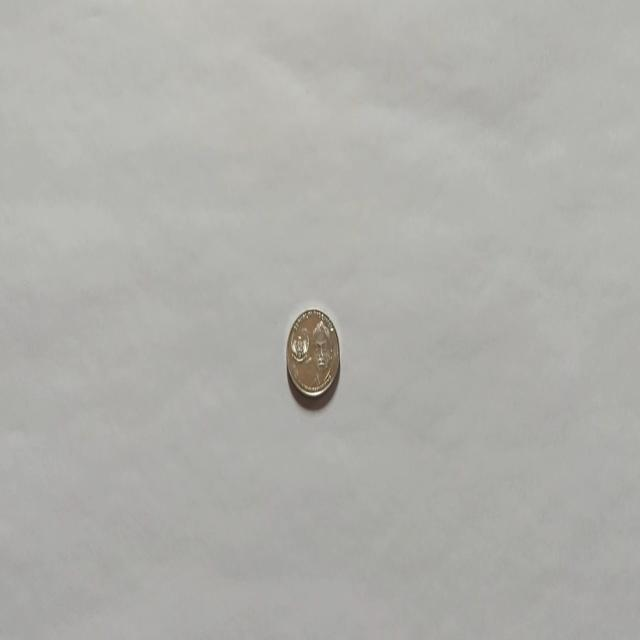dua ratus rupiah: (285, 306, 340, 400)
